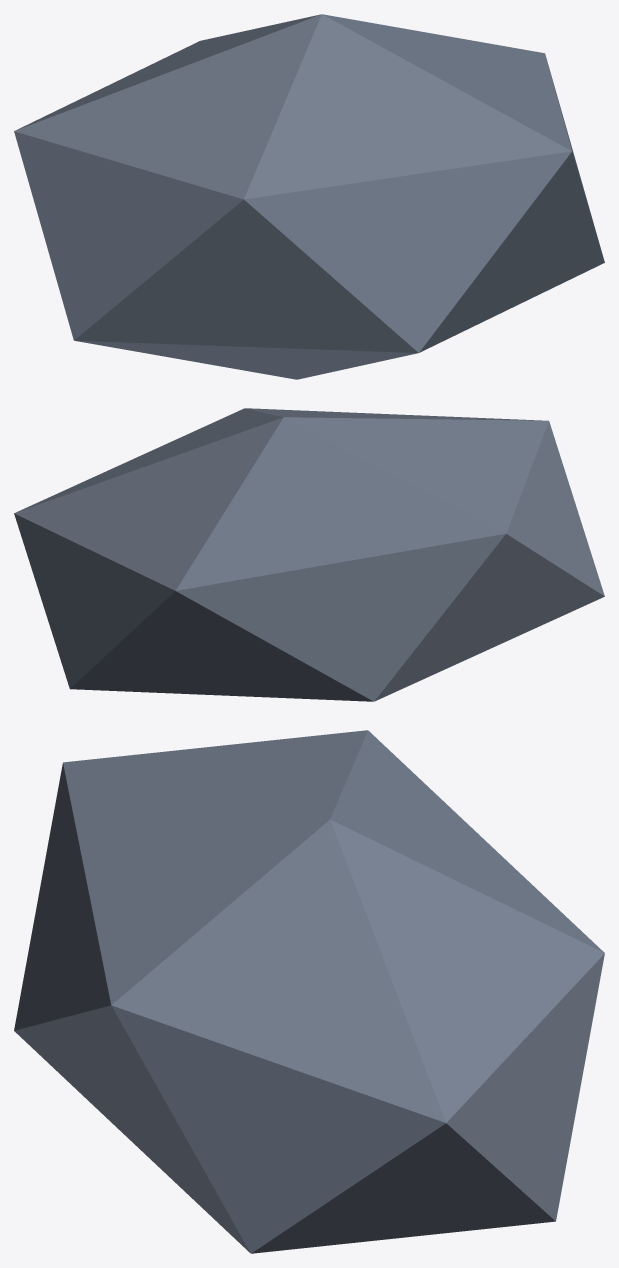
The model's file is EXT_SideScarp_West_01.glb.
3 views of the same model, one above another, from view 1: azimuth 30°, elevation 25°; view 2: azimuth 150°, elevation 25°; view 3: azimuth 270°, elevation 25° (orthographic). The views are drawn at different scales.
Parts seen in each view (by area): view 1: EXT_SideScarp_West_01; view 2: EXT_SideScarp_West_01; view 3: EXT_SideScarp_West_01.
Boxes of the visible parts, bbox=[...] form: EXT_SideScarp_West_01: bbox=[14, 14, 604, 379]; EXT_SideScarp_West_01: bbox=[14, 408, 604, 701]; EXT_SideScarp_West_01: bbox=[14, 730, 604, 1253].
Bounding box in the file's own units: 3.19 × 1.74 × 2.52.
